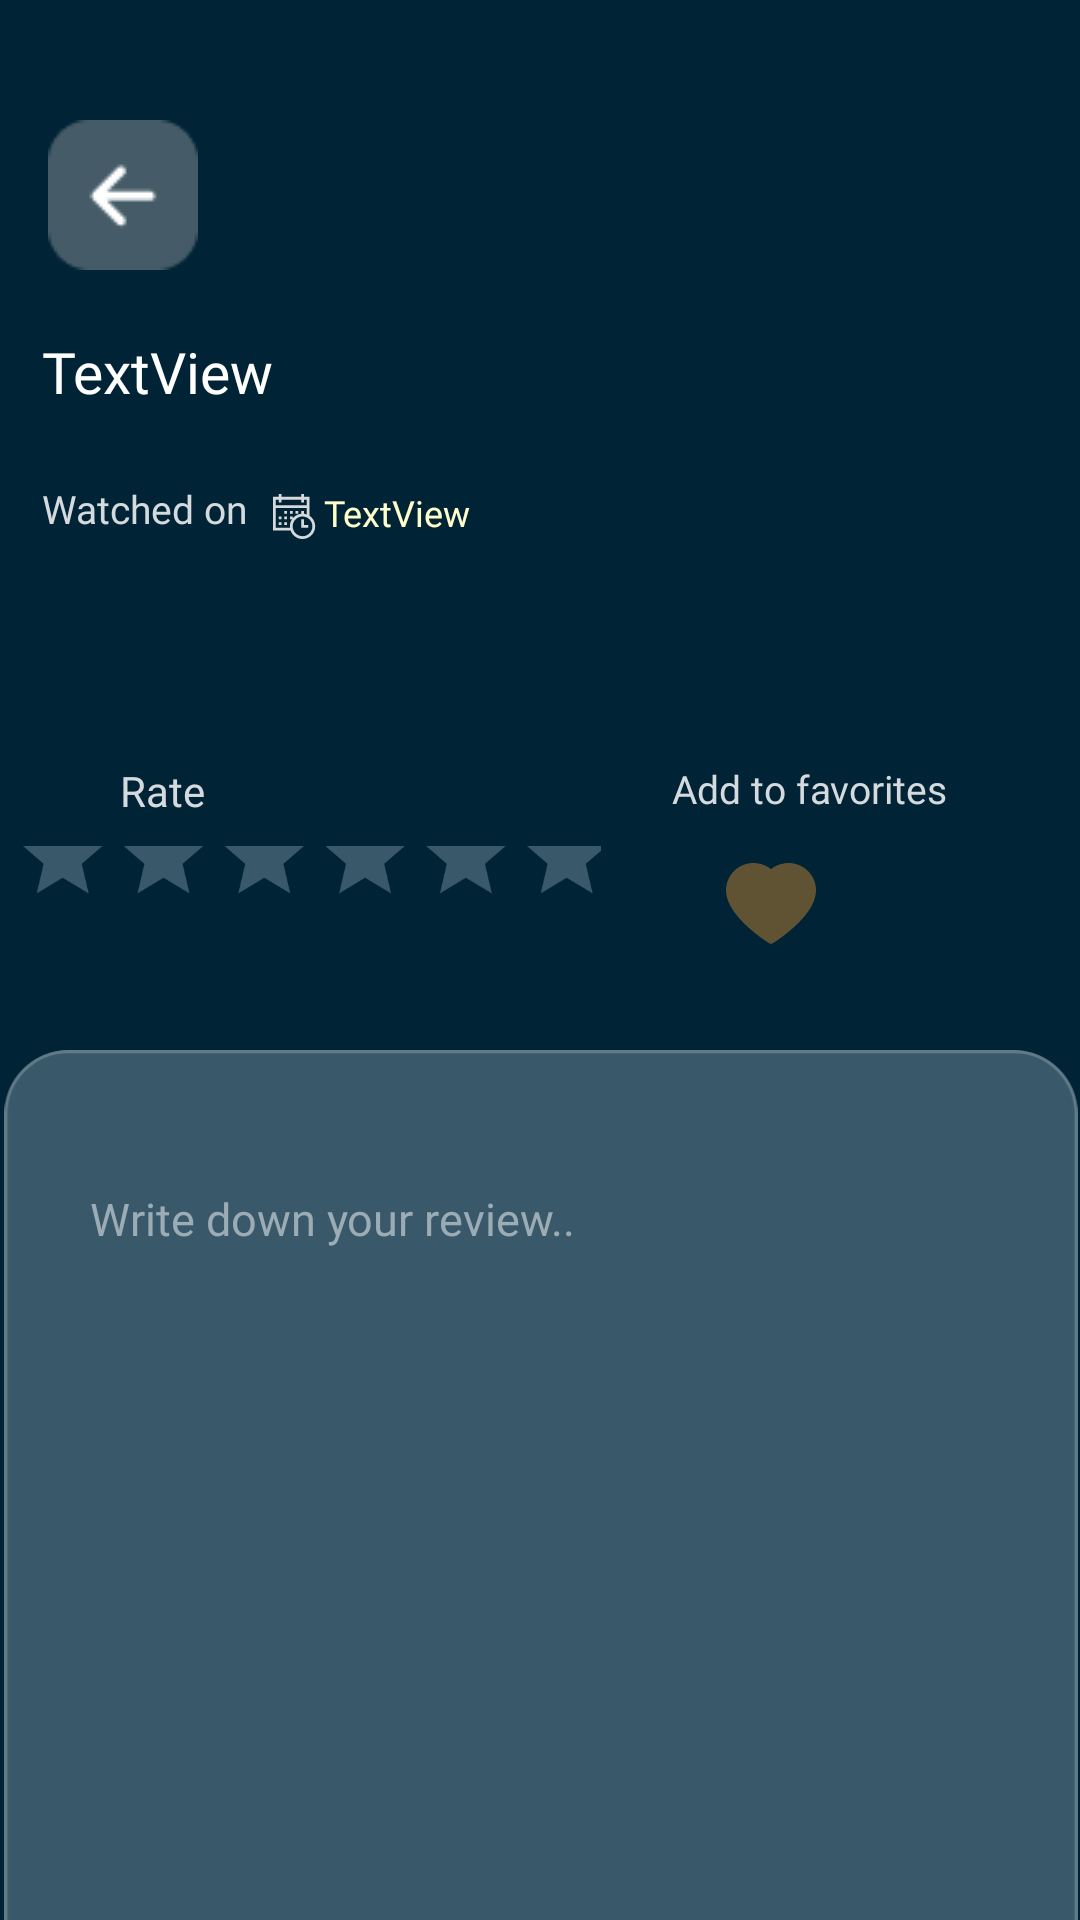

Named icons in this screenshot (1080×1920) and their centers, (x,y):
backbutton: (123,195)
likebutton: (771,903)
